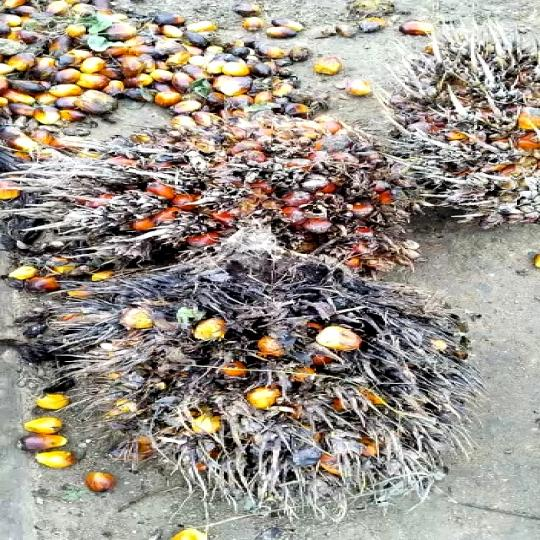terlalu masak: (61, 247, 482, 526), (0, 118, 425, 280), (365, 46, 540, 214)
